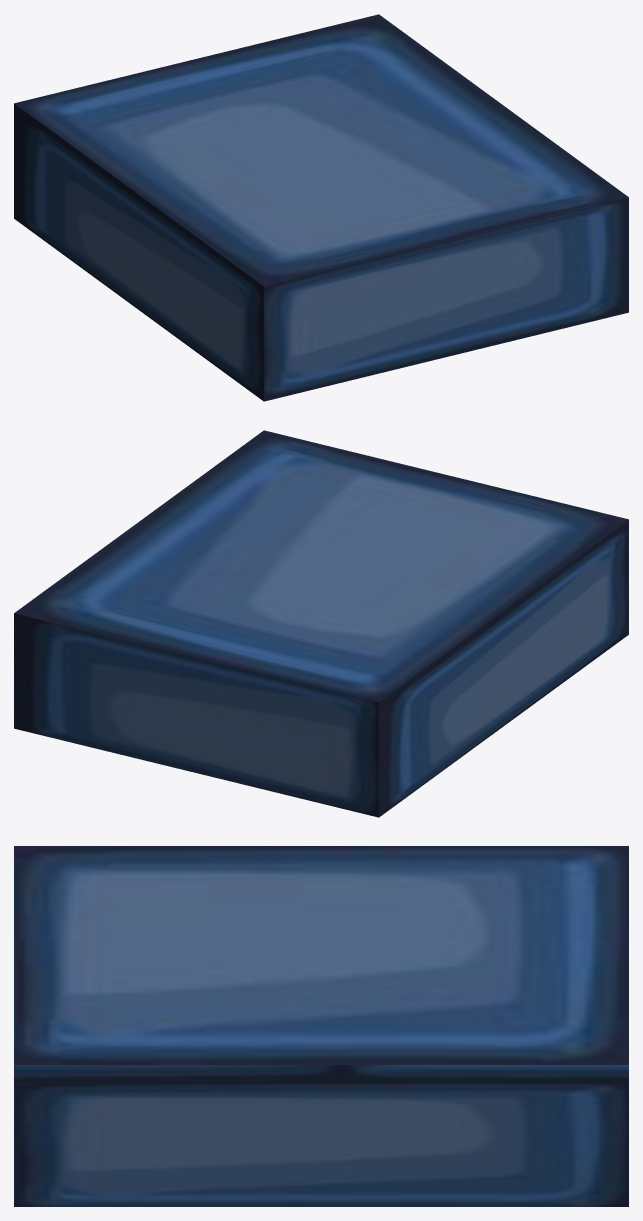
Rendered from Blue square.fbx.
The picture shows the model from 3 angles, top to bottom: view 1: azimuth 30°, elevation 25°; view 2: azimuth 150°, elevation 25°; view 3: azimuth 270°, elevation 25°; orthographic projection. The views are drawn at different scales.
Visible parts, largest first — view 1: Cube.1430; view 2: Cube.1430; view 3: Cube.1430.
Boxes of the visible parts, x1,y1,x2,y2 form: Cube.1430: (14, 14, 628, 401); Cube.1430: (14, 430, 628, 817); Cube.1430: (14, 846, 628, 1206).
Bounding box in the file's own units: 52.83 × 15.94 × 62.68.
